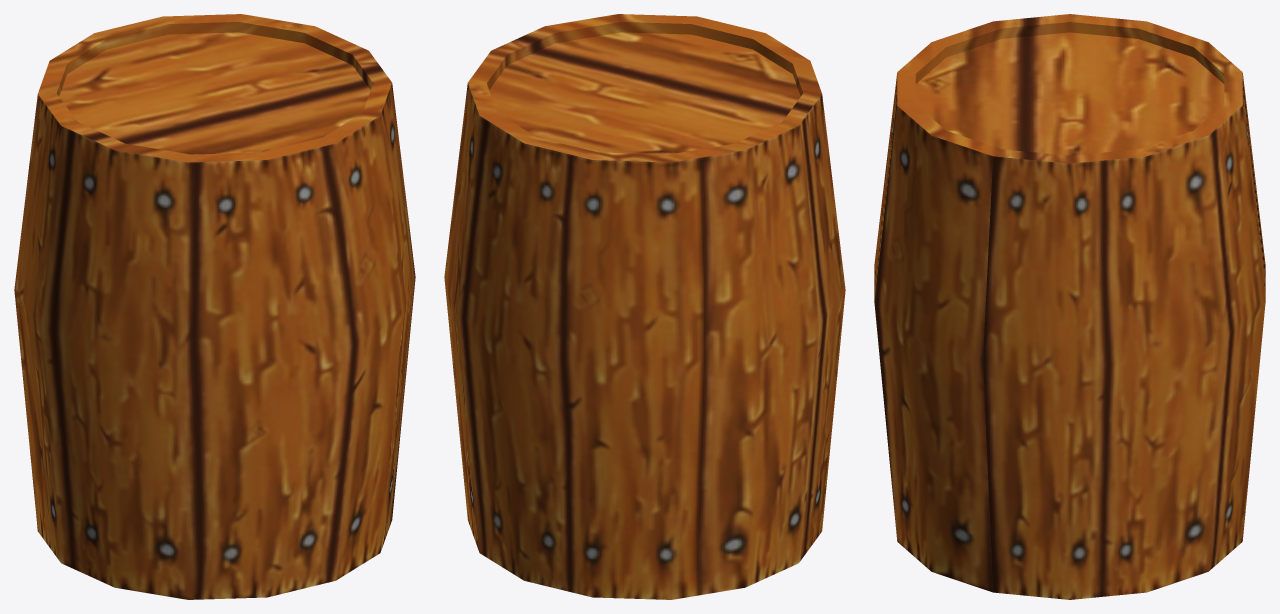
File: Barrel__Wood_1.fbx
The picture shows the model from 3 angles, left to right: view 1: azimuth 30°, elevation 25°; view 2: azimuth 150°, elevation 25°; view 3: azimuth 270°, elevation 25°; orthographic projection.
Visible parts, largest first — view 1: Barrel_Wood_1; view 2: Barrel_Wood_1; view 3: Barrel_Wood_1.
Part boxes in pixels (<box>): Barrel_Wood_1: <box>14,14,415,599</box>; Barrel_Wood_1: <box>444,14,845,599</box>; Barrel_Wood_1: <box>874,14,1265,599</box>.
Size of the model in its own units: 5.17 by 6.2 by 5.04.
Materials: 1 (1 with a texture image).
